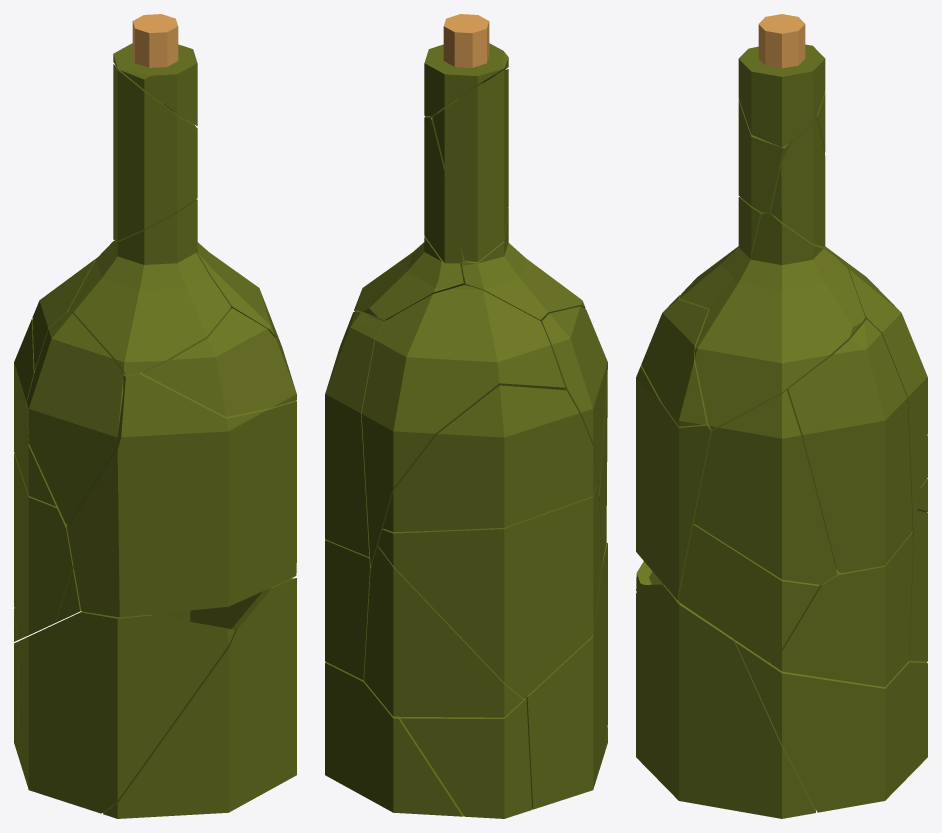
File: bottle-parts.fbx
3 views of the same model, side by side, from view 1: azimuth 30°, elevation 25°; view 2: azimuth 150°, elevation 25°; view 3: azimuth 270°, elevation 25° (orthographic).
Parts seen in each view (by area): view 1: bottle_cell.012, bottle_cell.002_cell.004, bottle_cell, bottle_cell.002_cell.001, bottle_cell.010, bottle_cell.011_cell.002, cork, bottle_cell.001, bottle_cell.002_cell; view 2: bottle_cell.011_cell.002, bottle_cell.001, bottle_cell.002_cell, bottle_cell.010, bottle_cell.002_cell.004, bottle_cell, bottle_cell.013_cell, bottle_cell.012, bottle_cell.013_cell.002, cork; view 3: bottle_cell.013_cell, bottle_cell, bottle_cell.002_cell.001, bottle_cell.013_cell.002, bottle_cell.002_cell, bottle_cell.010, bottle_cell.012, bottle_cell.001, bottle_cell.011_cell.002, cork.
Boxes of the visible parts, x1,y1,x2,y2 form: bottle_cell.012: (26,312,296,622); bottle_cell.002_cell.004: (18,611,235,813); bottle_cell: (68,199,296,416); bottle_cell.002_cell.001: (102,578,296,818); bottle_cell.010: (113,43,197,240); bottle_cell.011_cell.002: (14,319,73,641); cork: (132,14,178,67); bottle_cell.001: (32,257,97,371); bottle_cell.002_cell: (14,591,262,757); bottle_cell.011_cell.002: (364,385,600,717); bottle_cell.001: (361,285,565,565); bottle_cell.002_cell: (325,661,532,818); bottle_cell.010: (424,43,508,265); bottle_cell.002_cell.004: (526,542,607,809); bottle_cell: (354,208,585,325); bottle_cell.013_cell: (325,311,384,557); bottle_cell.012: (542,306,607,597); bottle_cell.013_cell.002: (325,539,371,680); cork: (443,14,489,67); bottle_cell.013_cell: (693,319,912,584); bottle_cell: (641,197,865,429); bottle_cell.002_cell.001: (636,584,815,818); bottle_cell.013_cell.002: (678,524,913,687); bottle_cell.002_cell: (735,640,927,812); bottle_cell.010: (738,44,825,246); bottle_cell.012: (636,365,715,600); bottle_cell.001: (827,248,927,537); bottle_cell.011_cell.002: (909,436,927,661); cork: (758,14,805,68).
Bounding box in the file's own units: 0.4161 × 1.15 × 0.4161.
